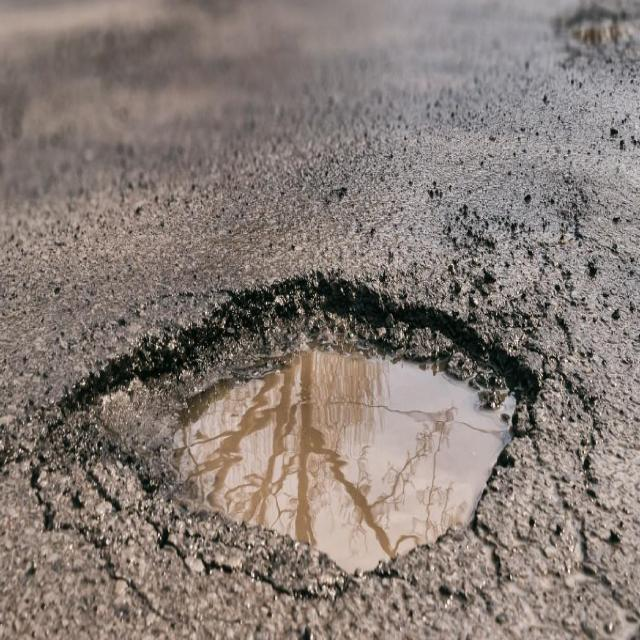Pothole: (44, 277, 541, 576)
